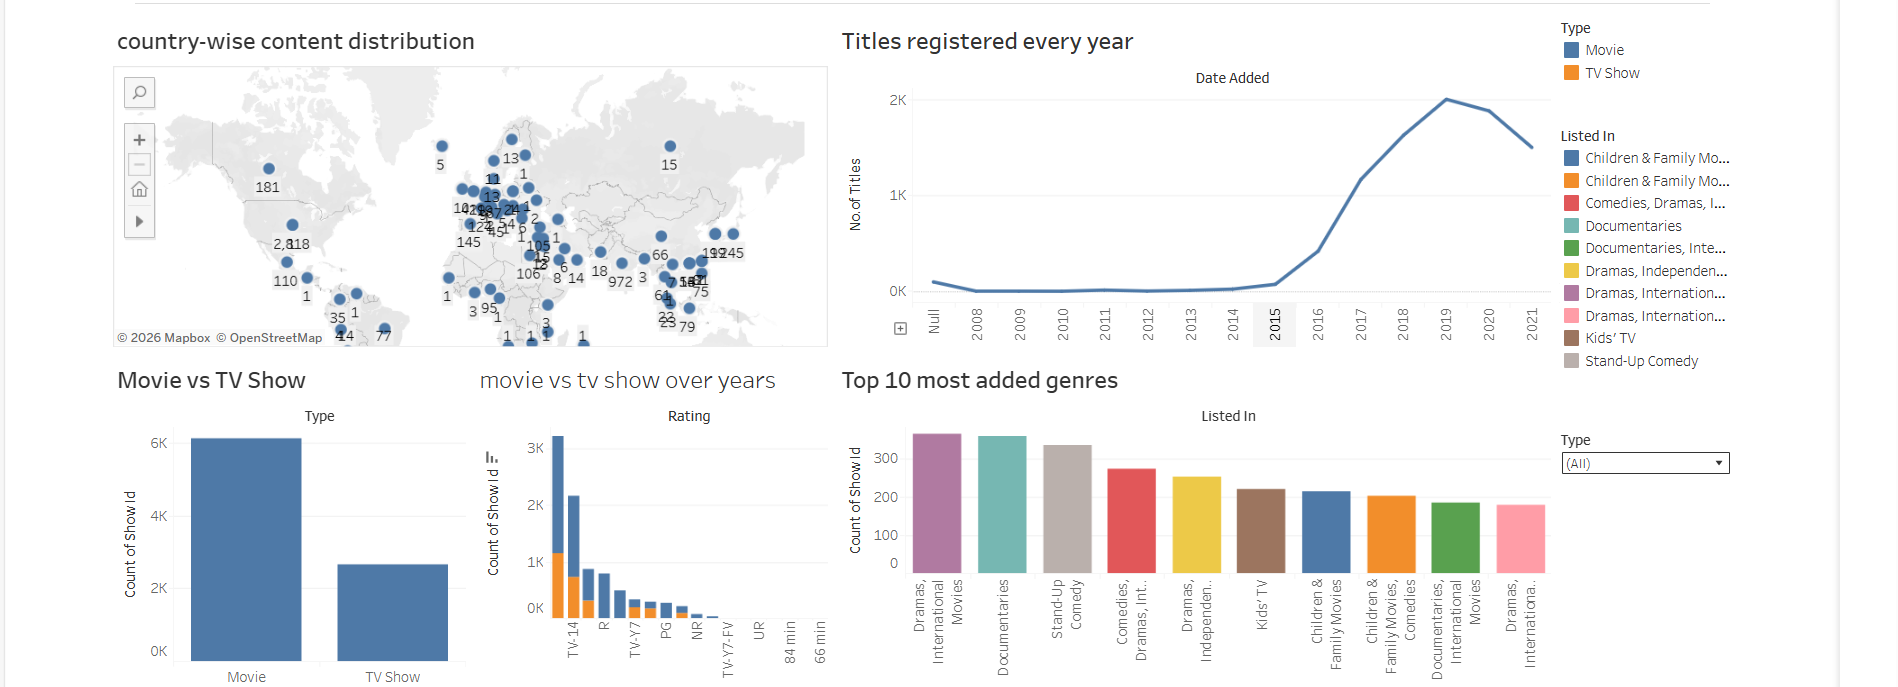

What the dashboard file says about the page in this screenshot:
{"tool":"tableau","page":{"name":"Dashboard 1","canvas":[1000,1000],"units":"permille","ordinal":0},"visuals":[{"type":"worksheet","title":"Country","mark":"Automatic","box":[4.8,10,446.9,490]},{"type":"worksheet","title":"Titles","mark":"Automatic","cols":["date_added"],"box":[451.7,10,446.9,490]},{"type":"legend","title":"Movie vs TV over Years","param":"[federated.0okvr3n1ybg5ws136aypu1u8bysw].[none:type:nk]","box":[898.6,10,96.6,119.9]},{"type":"legend","title":"Top 10","param":"[federated.0okvr3n1ybg5ws136aypu1u8bysw].[none:listed_in:nk]","box":[898.6,129.8,96.6,338.3]},{"type":"filter","title":"Movie vs TV","param":"[federated.0okvr3n1ybg5ws136aypu1u8bysw].[none:type:nk]","box":[898.6,468.2,96.6,76.2]},{"type":"worksheet","title":"Movie vs TV","mark":"Automatic","rows":["show_id"],"cols":["type"],"box":[4.8,500,223.4,490]},{"type":"worksheet","title":"Movie vs TV over Years","mark":"Automatic","rows":["show_id"],"cols":["rating"],"box":[228.3,500,223.5,490]},{"type":"worksheet","title":"Top 10","mark":"Automatic","rows":["show_id"],"cols":["listed_in"],"box":[451.7,500,446.9,490]}]}

Visuals, with their boxes on the dashboard's canvas, which has no fixed pixel size, in thousandths of its width and height (x1, y1, x2, y2). These are canvas units, not pixel positions in the 1898x687 screenshot, which may show the page scaled, cropped or inside an application window:
"Country" worksheet: [5, 10, 452, 500]
"Titles" worksheet: [452, 10, 899, 500]
"Movie vs TV over Years" legend: [899, 10, 995, 130]
"Top 10" legend: [899, 130, 995, 468]
"Movie vs TV" filter: [899, 468, 995, 544]
"Movie vs TV" worksheet: [5, 500, 228, 990]
"Movie vs TV over Years" worksheet: [228, 500, 452, 990]
"Top 10" worksheet: [452, 500, 899, 990]
